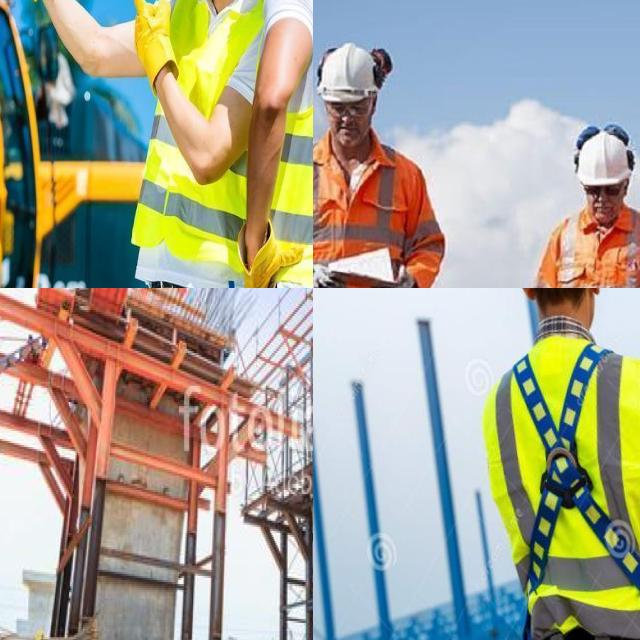Harness: (513, 343, 640, 594)
face_nomask: (322, 93, 370, 149), (583, 174, 625, 218)
glasses: (323, 95, 375, 124), (576, 179, 626, 199)
hand_glove: (124, 0, 183, 86), (313, 252, 345, 288), (375, 265, 417, 288)
head_helmet: (314, 40, 392, 105), (572, 124, 636, 188)
person: (313, 41, 445, 288), (149, 0, 259, 288), (520, 125, 640, 288), (271, 0, 313, 288)
vest: (146, 0, 259, 255), (313, 155, 438, 288), (275, 0, 313, 288), (523, 206, 640, 288)
